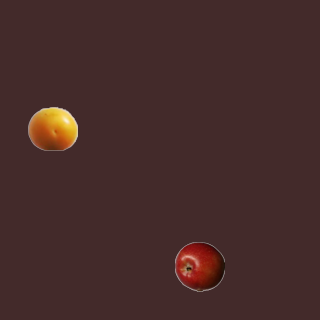Apple Braeburn: (174, 241, 224, 291)
Cherry Wax Yellow: (27, 103, 77, 153)
